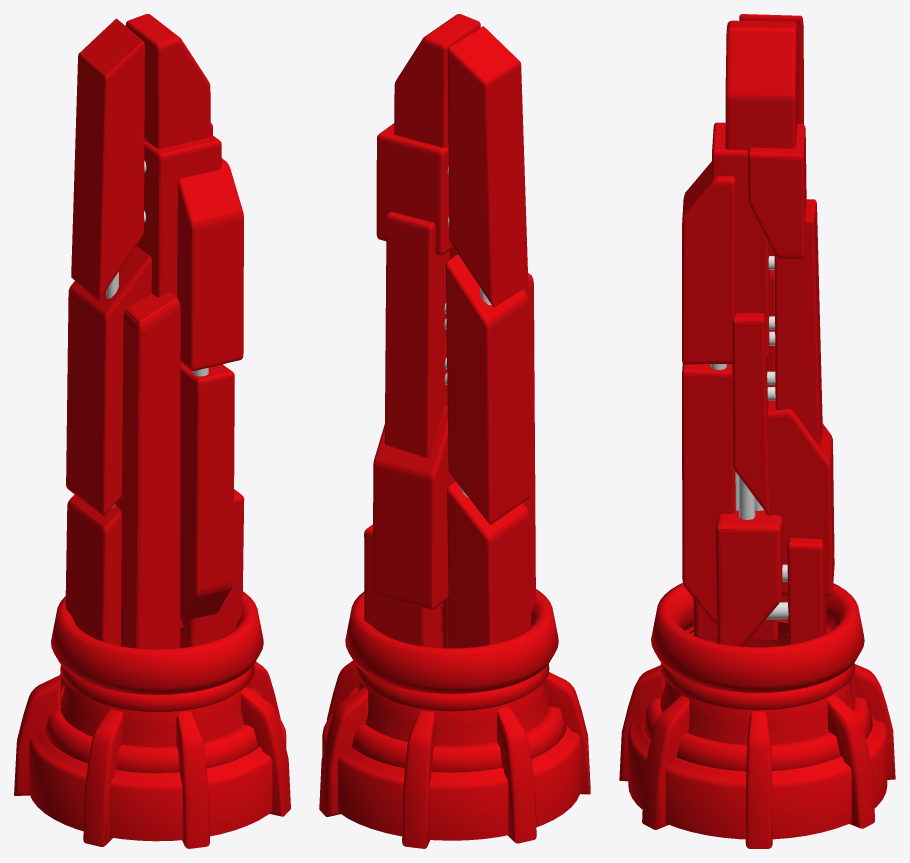
Rendered from Pillar.fbx.
3 views of the same model, side by side, from view 1: azimuth 30°, elevation 25°; view 2: azimuth 150°, elevation 25°; view 3: azimuth 270°, elevation 25° (orthographic).
Visible parts, largest first — view 1: Torus.000; view 2: Torus.000; view 3: Torus.000.
Boxes of the visible parts, <box> form: Torus.000: <box>14,14,290,848</box>; Torus.000: <box>319,14,590,848</box>; Torus.000: <box>619,14,895,848</box>.
Bounding box in the file's own units: 887 × 2768 × 903.
